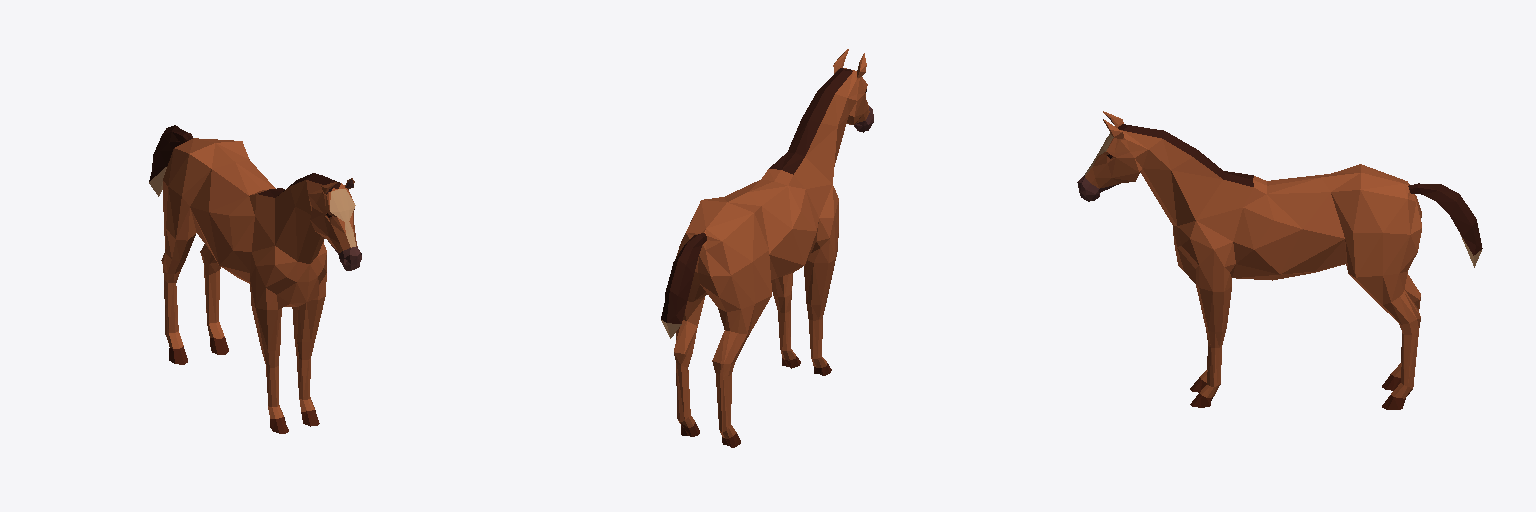
The model's file is horse_colorMap.obj.
The picture shows the model from 3 angles: view 1: azimuth 30°, elevation 25°; view 2: azimuth 150°, elevation 25°; view 3: azimuth 270°, elevation 25°; orthographic projection.
Bounding box in the file's own units: 63.87 × 204 × 265.